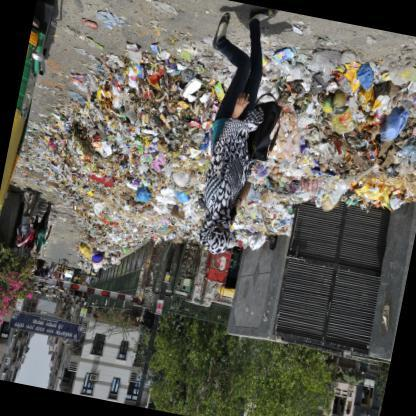Garbage: (82, 42, 219, 238), (277, 34, 415, 226), (41, 22, 178, 210), (242, 189, 300, 257), (362, 93, 415, 157), (66, 0, 128, 45), (163, 178, 198, 222), (320, 80, 356, 117), (284, 127, 318, 166), (260, 156, 294, 194), (334, 115, 361, 156), (396, 126, 415, 177), (77, 131, 123, 152), (236, 225, 265, 252), (273, 203, 298, 234), (352, 186, 386, 208), (56, 184, 82, 212), (152, 150, 178, 178), (140, 62, 165, 90), (162, 96, 192, 118), (90, 218, 114, 244), (396, 68, 415, 95), (36, 144, 58, 166), (132, 186, 148, 216), (100, 249, 122, 266), (165, 33, 187, 49), (133, 191, 150, 208), (76, 249, 98, 262), (120, 244, 136, 258), (266, 208, 280, 223), (121, 220, 132, 229)
